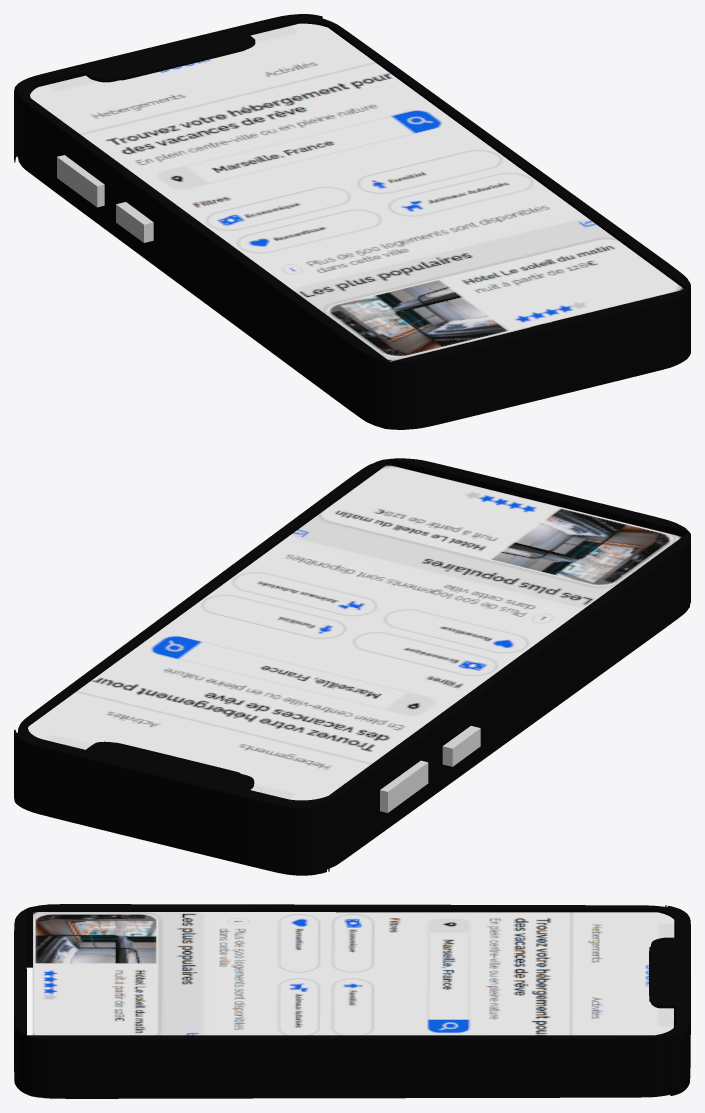
The model's file is sans_nom.glb.
The picture shows the model from 3 angles, top to bottom: view 1: azimuth 30°, elevation 25°; view 2: azimuth 150°, elevation 25°; view 3: azimuth 270°, elevation 25°; orthographic projection. The views are drawn at different scales.
Visible parts, largest first — view 1: Cube, path1148, Cube.001, Cube.002; view 2: Cube, path1148, Cube.001, Cube.002; view 3: Cube, path1148.
Part boxes in pixels (x1,y1,x2,y2): Cube: (30, 23, 684, 361); path1148: (14, 14, 690, 429); Cube.001: (57, 155, 104, 207); Cube.002: (116, 202, 153, 242); Cube: (28, 464, 681, 800); path1148: (14, 458, 690, 875); Cube.001: (380, 760, 428, 812); Cube.002: (442, 726, 480, 766); Cube: (32, 912, 674, 1035); path1148: (14, 904, 690, 1098).
Bounding box in the file's own units: 0.0814 × 0.016 × 0.1669.
2 materials, 1 textured.
